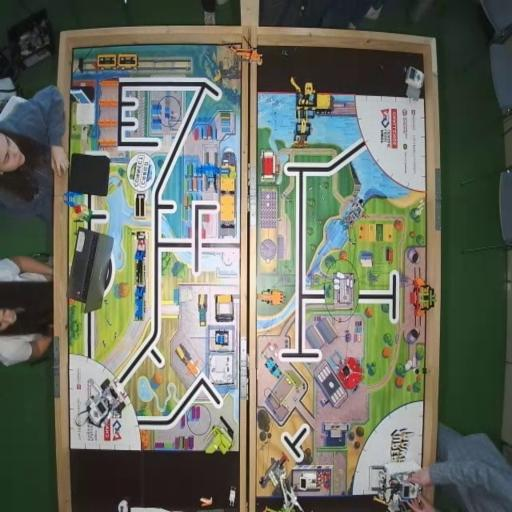lego_robot: (85, 376, 128, 430), (374, 468, 424, 512)
